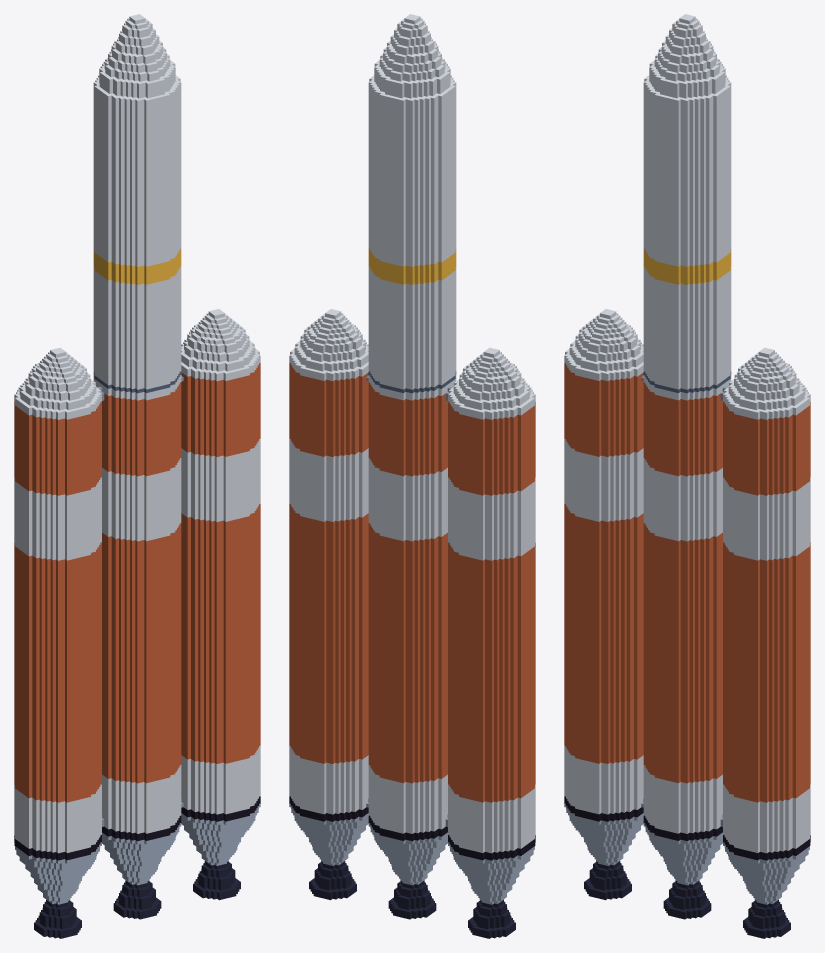
The model's file is Lake_IV_Heavy.dae.
3 renders of one model, left to right at view 1: azimuth 30°, elevation 25°; view 2: azimuth 150°, elevation 25°; view 3: azimuth 330°, elevation 25°, orthographic.
Visible parts, largest first — view 1: ObjObject.010; view 2: ObjObject.010; view 3: ObjObject.010.
Part boxes in pixels (x1,y1,x2,y2): ObjObject.010: [14, 14, 260, 938]; ObjObject.010: [289, 14, 535, 938]; ObjObject.010: [564, 14, 810, 938].
Size of the model in its own units: 6.7 by 2.1 by 24.7.
1 material, 1 textured.
